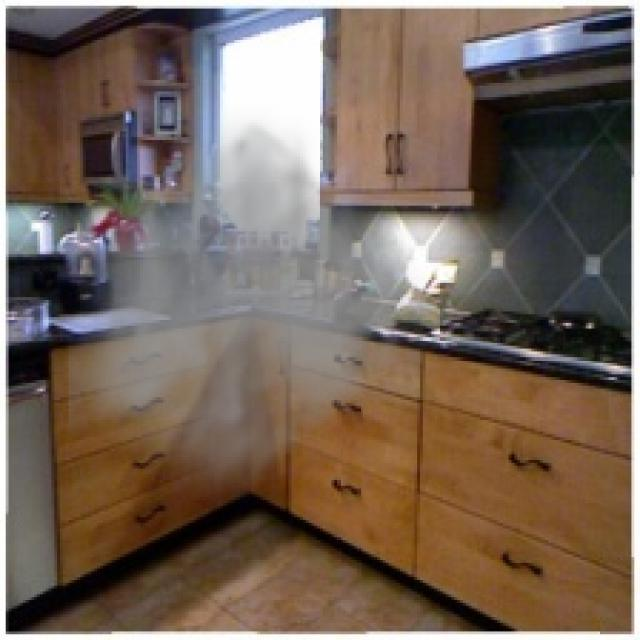Smoke: (69, 102, 448, 512)
